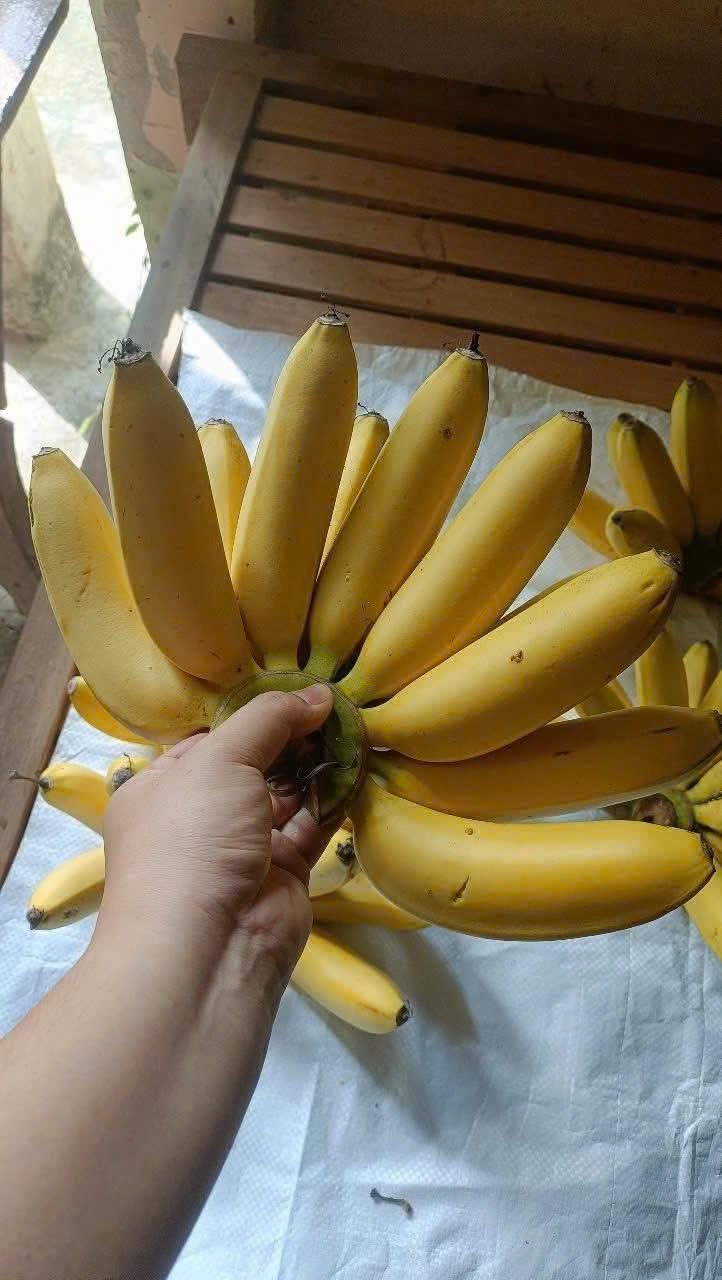banana: (23, 260, 463, 683), (322, 513, 722, 937)
